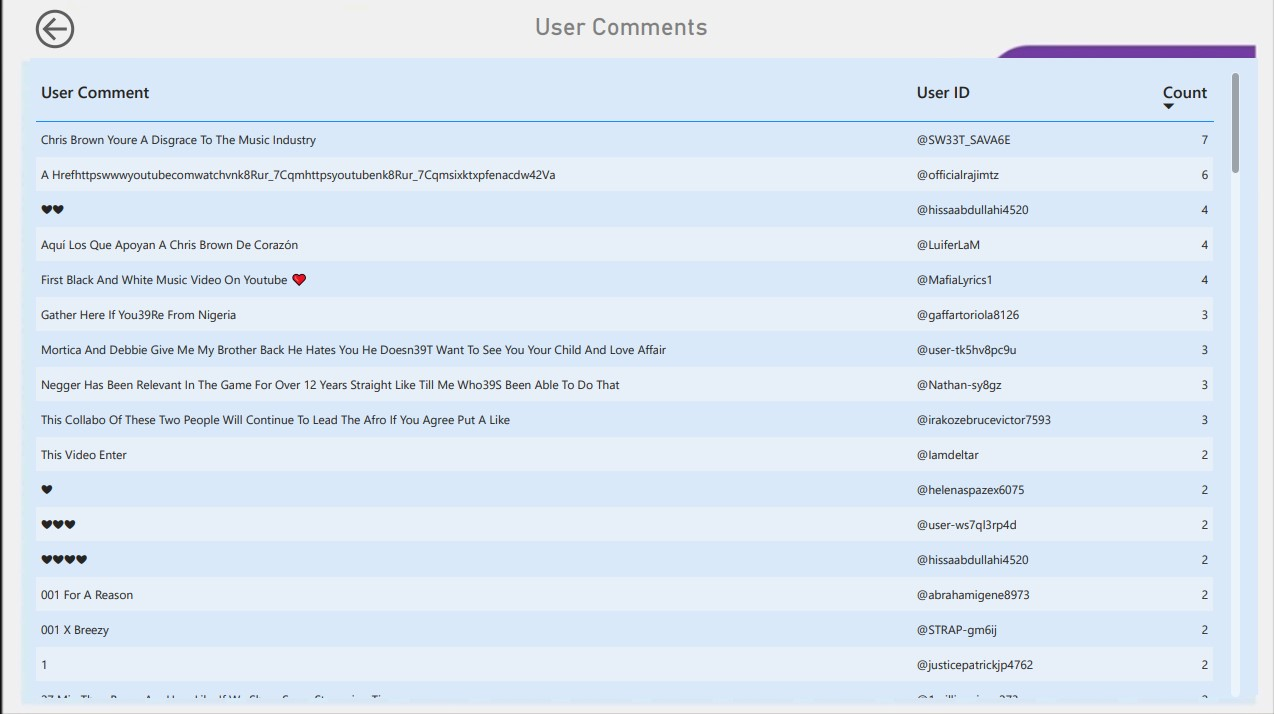

This screenshot's page, from the dashboard's own definition file:
{"tool":"powerbi","page":{"name":"Comments","canvas":[1280,720],"ordinal":1},"visuals":[{"type":"textbox","box":[532.2,10.3,198,41.3],"z":0},{"type":"shape","box":[32,59.8,1227.4,636.4],"z":1000},{"type":"tableEx","fields":{"Values":["Dataset.Comment - Copy","Dataset.Name","Dax.All coments"]},"box":[32,69.1,1215,635.4],"z":2000},{"type":"actionButton","box":[32,6.2,56.7,49.5],"z":3000}]}

Visuals, with their boxes in screenshot pixels (x1, y1, x2, y2), scaled from the page's 1280x720 canvas onto the 1274x714 screenshot:
textbox: 530,10,727,51
shape: 32,59,1253,690
tableEx - Dataset.Comment - Copy x Dataset.Name: 32,69,1241,699
actionButton: 32,6,88,55
